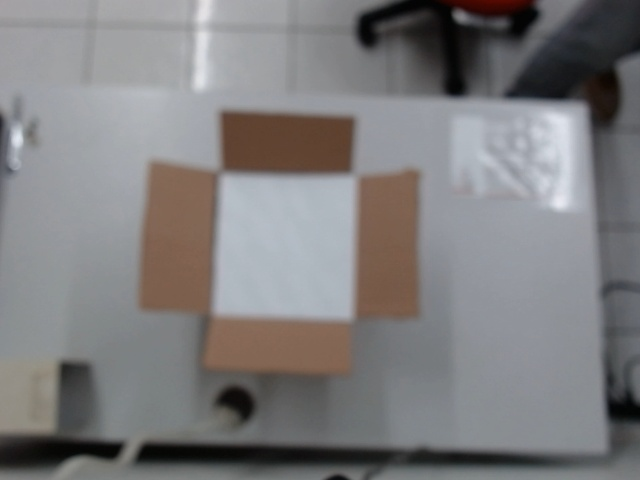divisor: (207, 171, 363, 325)
